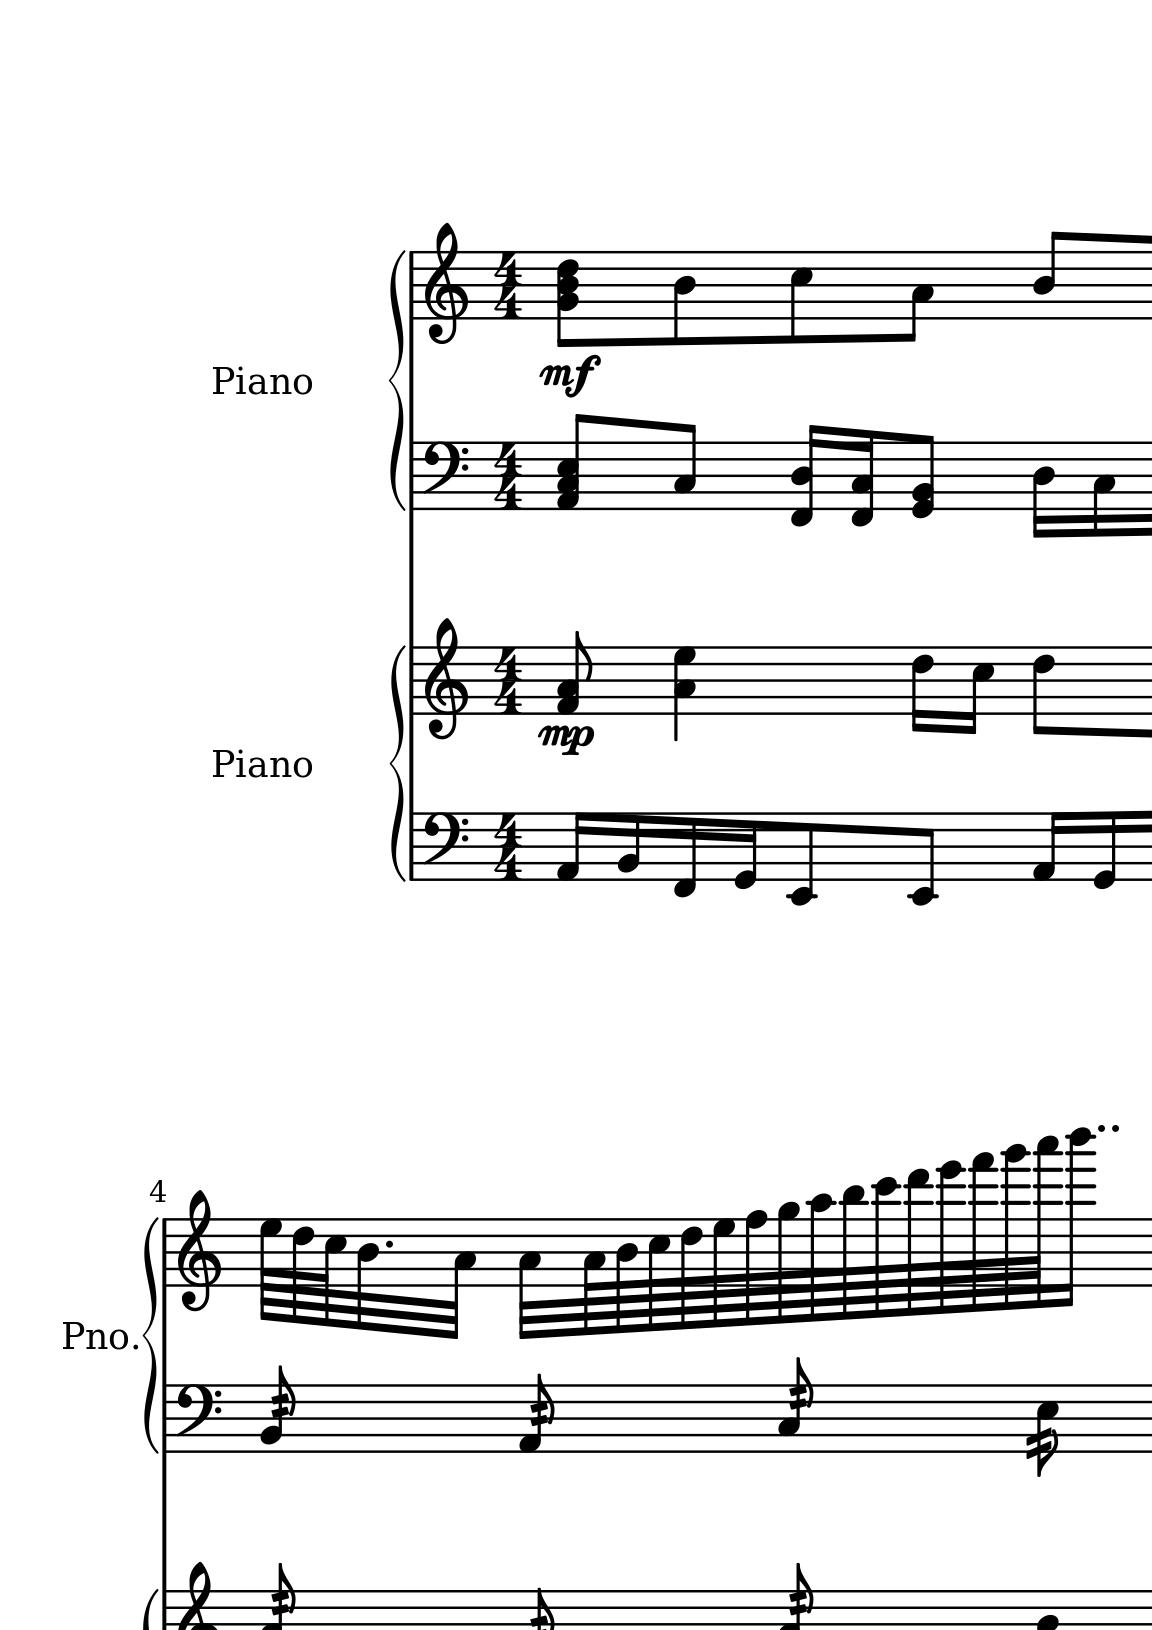16_-1: (672, 811, 699, 898)
16_-1_3: (852, 427, 876, 528)
16_-1_4: (790, 422, 822, 527)
16_0: (1093, 809, 1118, 891)
16_1: (1032, 810, 1066, 884), (555, 813, 588, 881)
16_13: (905, 1168, 930, 1318)
16_14: (938, 1159, 964, 1318)
16_15: (970, 1151, 996, 1313)
16_18: (1060, 1127, 1092, 1307)
16_2: (617, 813, 642, 884)
16_3: (1092, 437, 1117, 540)
16_4: (1032, 440, 1057, 540)
16_5: (966, 646, 995, 735)
16_6: (910, 644, 935, 734)
32_3: (446, 1216, 479, 1341), (516, 1218, 542, 1341)
32_4: (357, 1216, 382, 1333)
4: (492, 285, 527, 320), (492, 847, 529, 881), (492, 252, 526, 287), (494, 813, 526, 847), (492, 442, 524, 477), (492, 477, 526, 508), (494, 680, 525, 712), (494, 647, 522, 680)
4_3_7: (673, 644, 697, 744)
64_10: (809, 1193, 832, 1323)
64_11: (842, 1184, 865, 1321)
64_12: (873, 1175, 901, 1318)
64_16: (1002, 1143, 1026, 1312)
64_17: (1027, 1133, 1058, 1312)
64_3: (582, 1218, 605, 1336)
64_4: (613, 1218, 638, 1335)
64_5: (318, 1218, 347, 1330), (647, 1216, 670, 1333)
64_6: (679, 1216, 702, 1332), (290, 1218, 314, 1327)
64_7: (712, 1218, 737, 1330), (259, 1218, 282, 1323)
64_8: (746, 1209, 767, 1328)
64_9: (777, 1200, 799, 1325)
8_-2: (908, 810, 938, 907), (788, 811, 815, 906)
8_0: (734, 813, 759, 890)
8_0_2: (911, 432, 936, 518)
8_1_3: (556, 631, 593, 715)
8_3: (900, 249, 936, 343), (673, 422, 697, 511)
8_4: (1032, 232, 1063, 319), (673, 249, 697, 346)
8_5: (789, 249, 813, 344)
8_6: (1031, 646, 1065, 736)
8_th: (557, 412, 591, 512), (555, 250, 578, 349)
Brace: (386, 249, 409, 513), (386, 646, 406, 880), (138, 1218, 158, 1452)
Double_dot: (1093, 1122, 1121, 1135)
Fclef: (420, 439, 470, 513), (175, 1382, 223, 1456), (420, 811, 469, 884)
Gclef: (423, 221, 470, 344), (425, 617, 469, 740), (178, 1189, 221, 1311)
Pno: (209, 361, 317, 398), (209, 746, 317, 781), (59, 1318, 131, 1351)
Single_barline: (401, 647, 423, 715), (406, 813, 424, 881), (158, 1218, 176, 1285), (406, 250, 423, 319), (405, 441, 421, 510), (157, 1385, 173, 1453), (383, 1237, 395, 1252)
Stem: (775, 1357, 814, 1452), (1024, 1385, 1062, 1475), (259, 1365, 295, 1454), (517, 1375, 559, 1453)
TimeSig: (492, 442, 527, 513), (491, 646, 526, 715), (492, 252, 526, 322), (492, 811, 524, 884)
mf: (540, 355, 605, 399)
mp: (536, 722, 596, 758)
